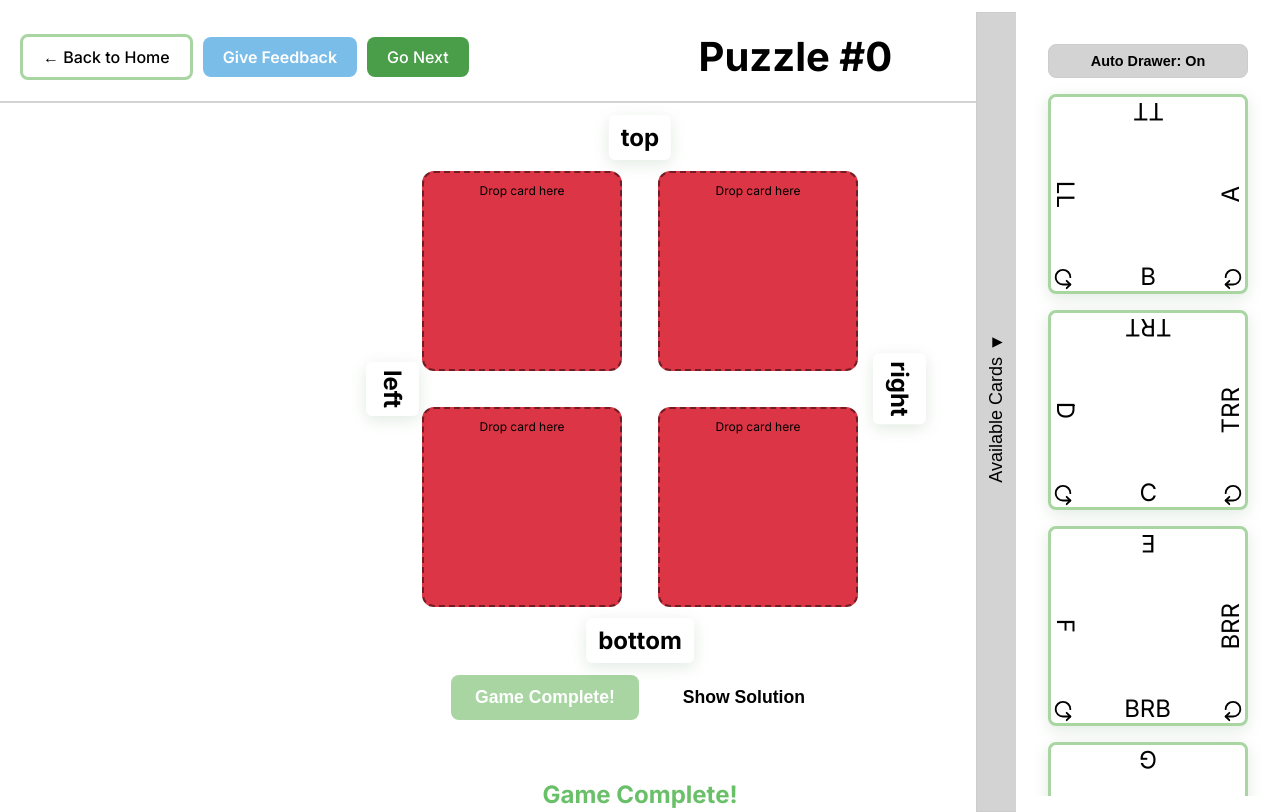
Test: WordPuzzleGame UI interactions › clicking Show Solution fills all slots using real components
This screenshot has width=1280, height=812.
Expected: the text "Drop card here" is shown 4 times, [480,183,565,198]; [716,183,801,198]; [716,419,801,434]; [480,419,565,434]
Click the button "Show Solution": (744, 698) [659,675,829,720]
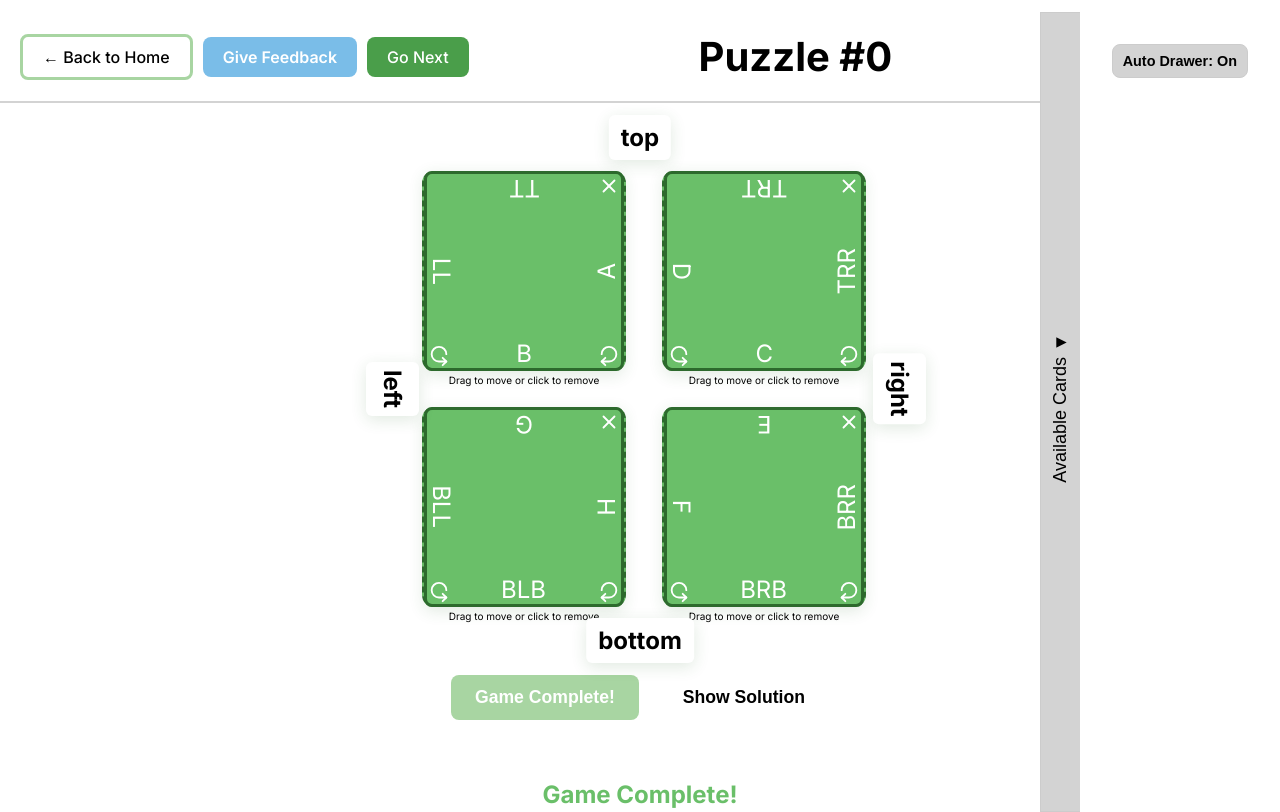
Result: the text "Drop card here" is gone
Result: the text "Drag to move or click to remove" is shown 4 times at [449,374,599,386]; [689,374,839,386]; [689,610,839,622]; [449,610,599,622]
